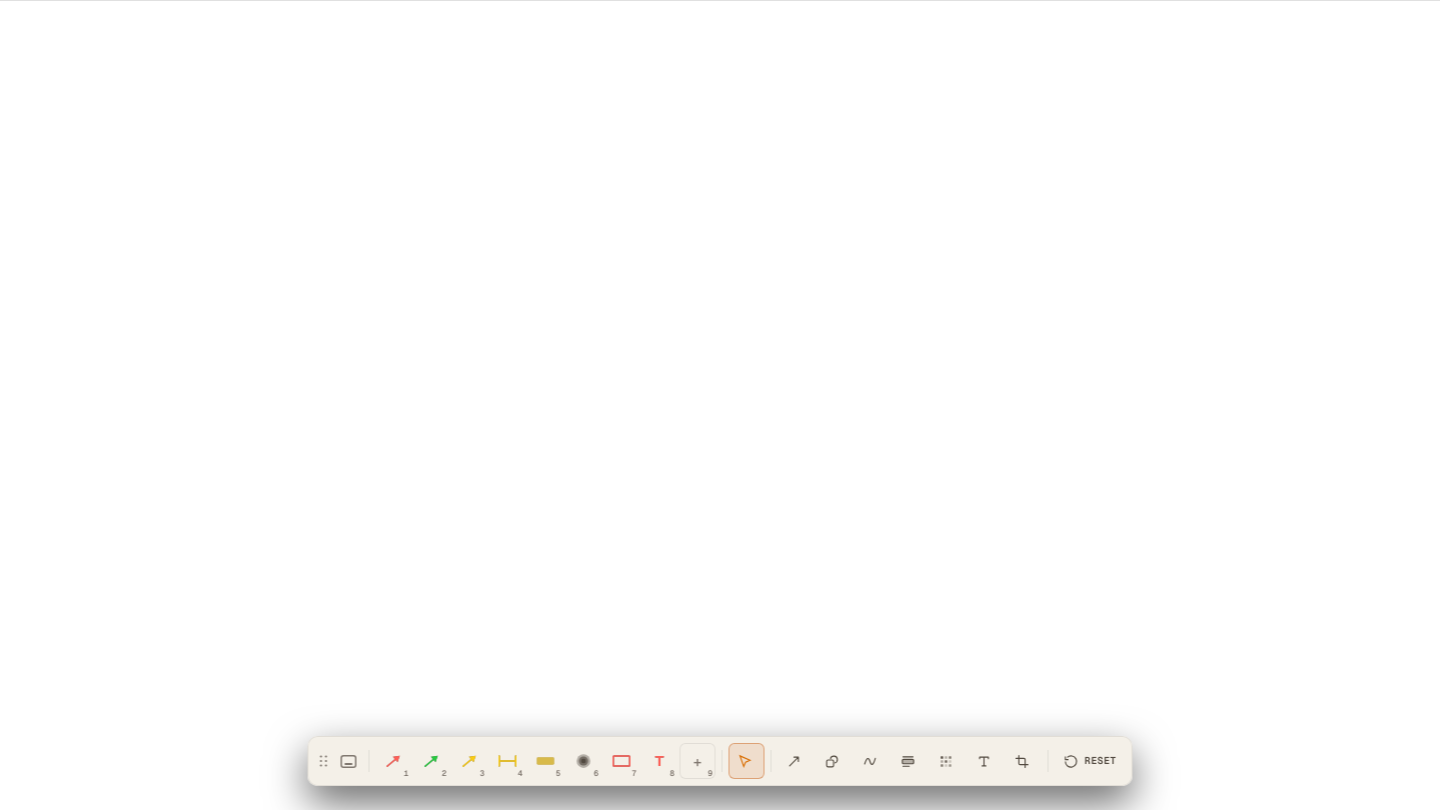
Test: EditToolbar docking › the dock menu moves the toolbar and saves the choice
Click the button with test id "edit-toolbar-dock-button": (348, 761) x1=334 y1=743 x2=362 y2=779
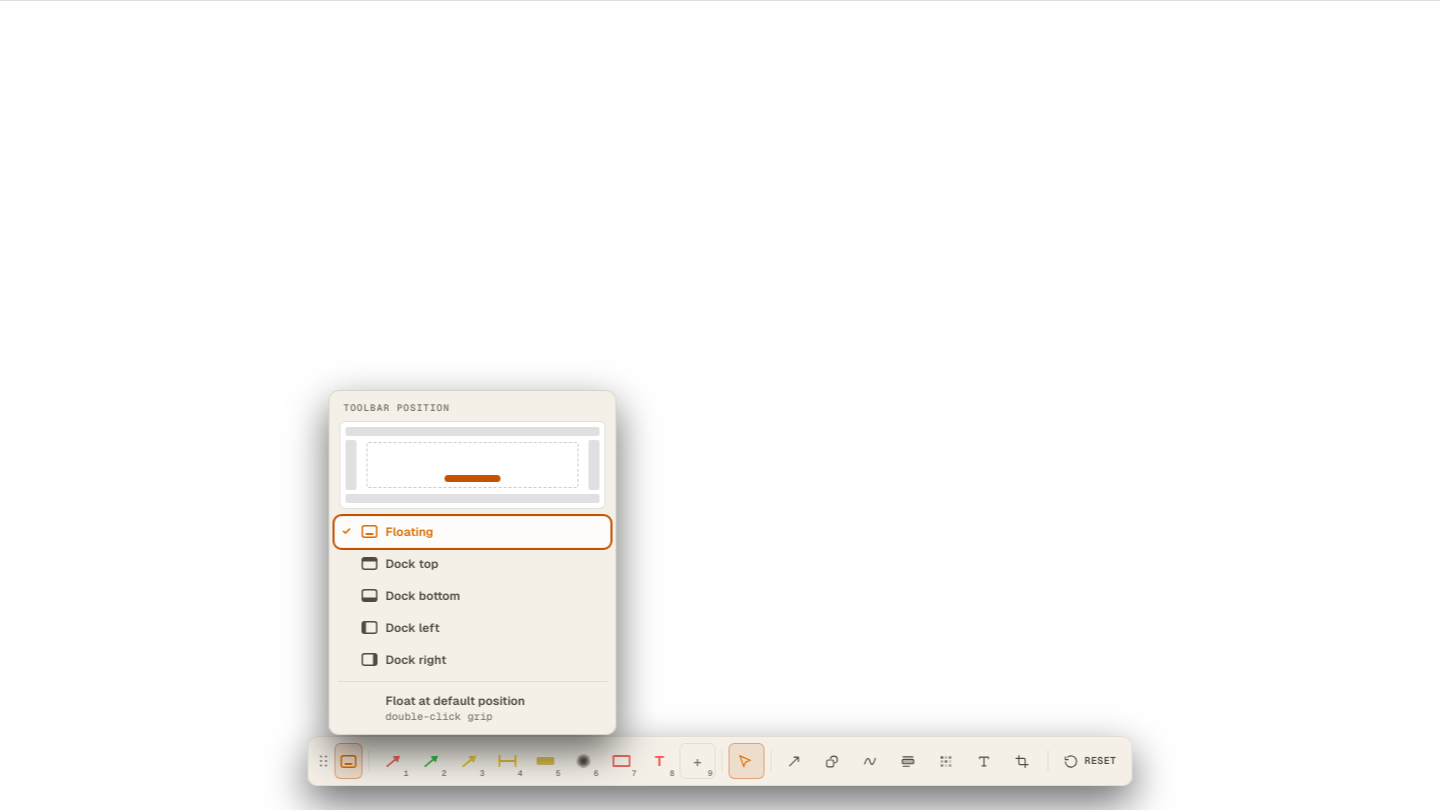
Expected: the menu with test id "edit-toolbar-dock-menu" is shown, x1=328 y1=390 x2=616 y2=735
Click the menu item with test id "edit-toolbar-dock-right": (416, 660) x1=336 y1=644 x2=610 y2=674
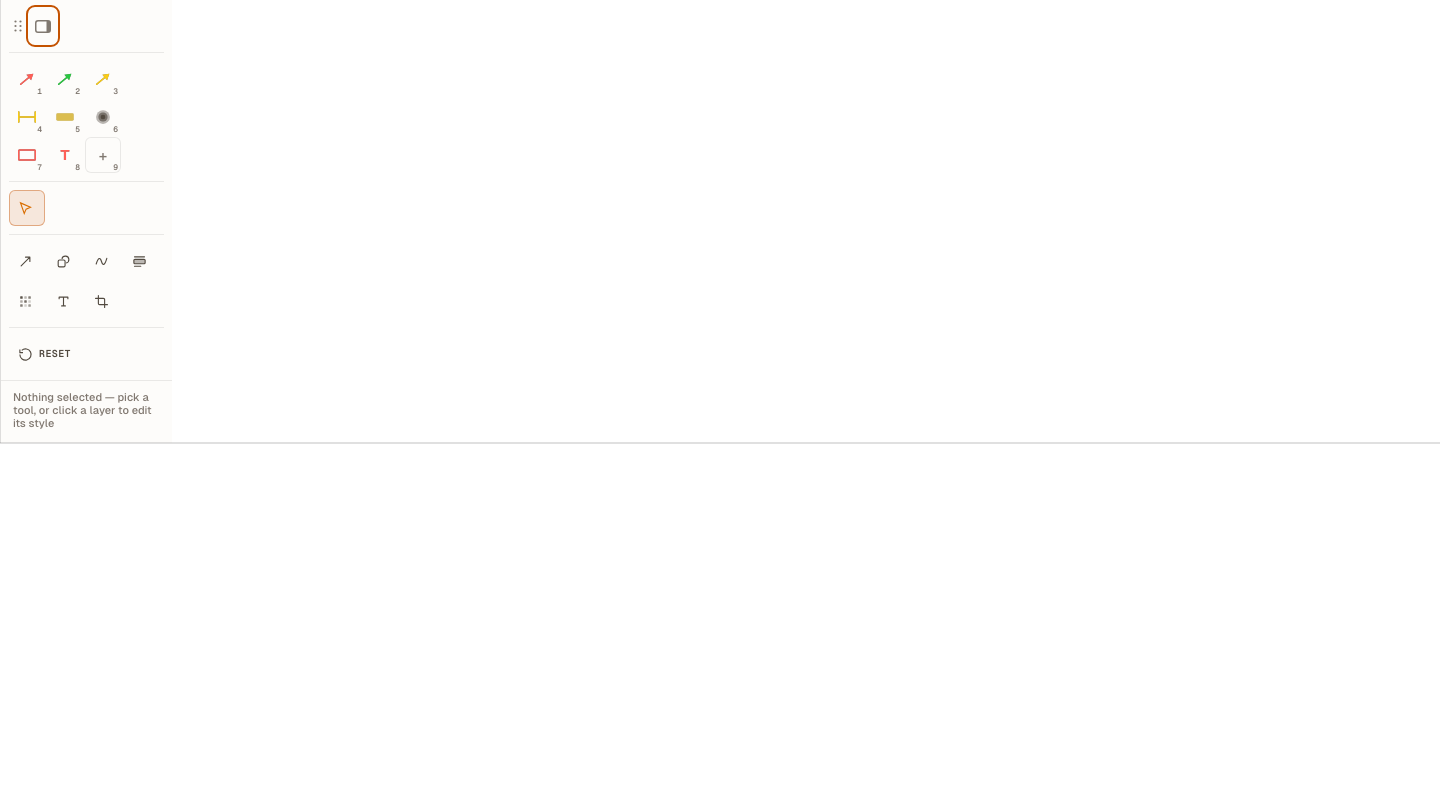
Expected: the menu with test id "edit-toolbar-dock-menu" is gone
